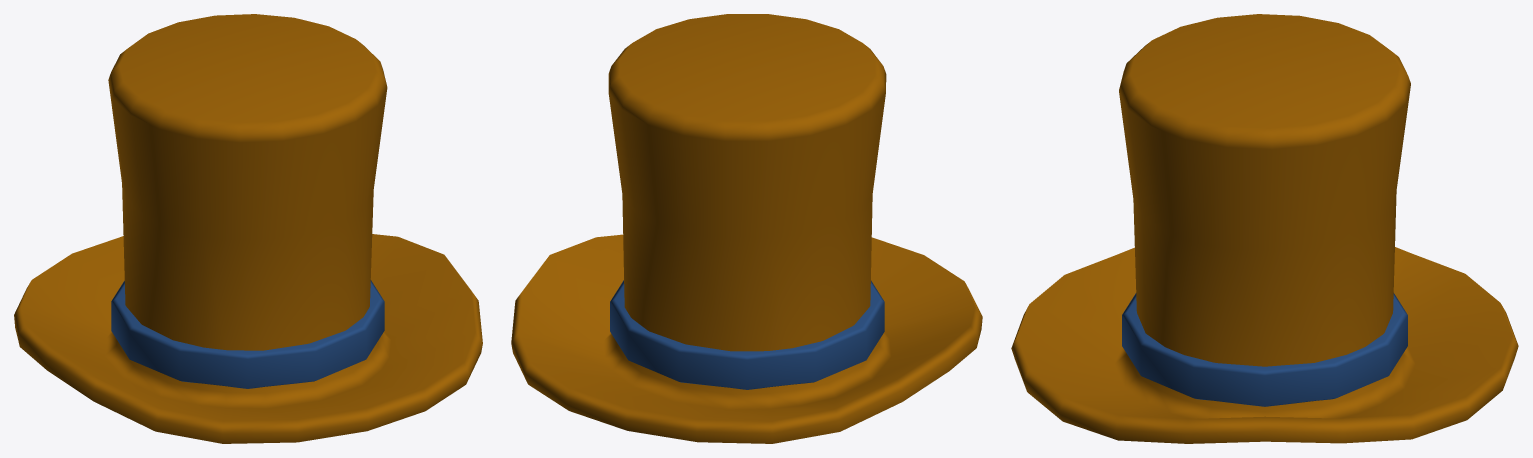
File: Hat_Orange.fbx
3 renders of one model, left to right at view 1: azimuth 30°, elevation 25°; view 2: azimuth 150°, elevation 25°; view 3: azimuth 270°, elevation 25°, orthographic. The views are drawn at different scales.
Parts seen in each view (by area): view 1: Hat_Orange; view 2: Hat_Orange; view 3: Hat_Orange.
Part boxes in pixels (box(x1,y1,x2,y2)): Hat_Orange: box(14, 14, 482, 443); Hat_Orange: box(511, 14, 982, 443); Hat_Orange: box(1011, 14, 1518, 443).
Size of the model in its own units: 2.26 by 1.52 by 2.34.
